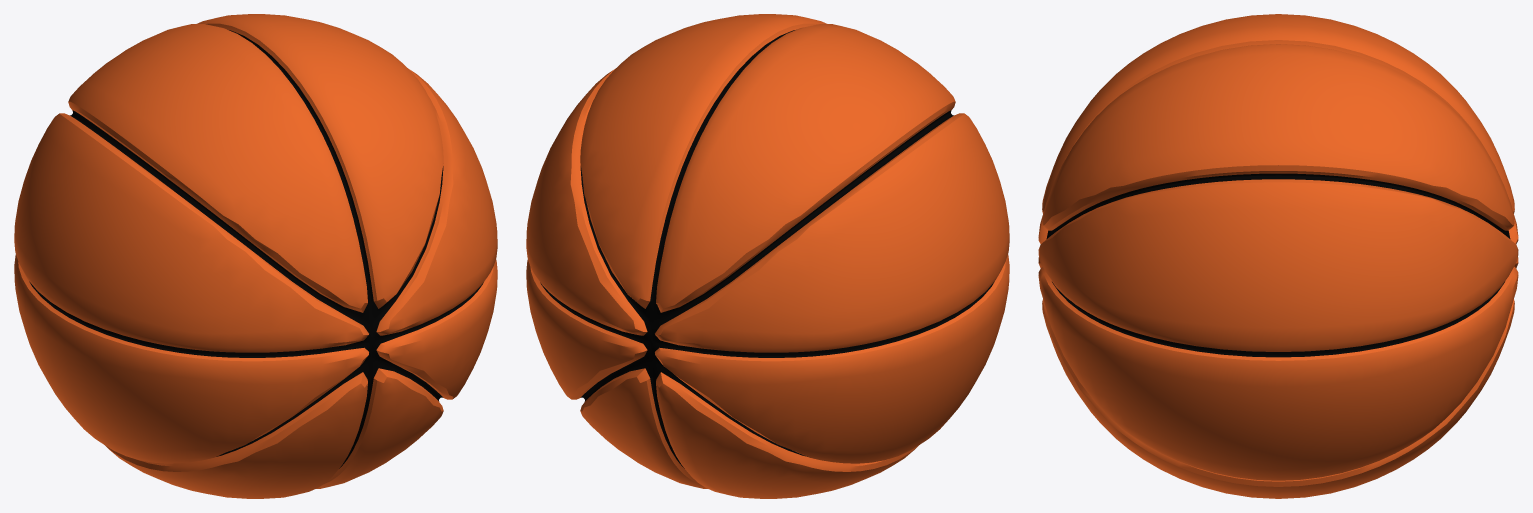
File: basketball.fbx
The picture shows the model from 3 angles, left to right: view 1: azimuth 30°, elevation 25°; view 2: azimuth 150°, elevation 25°; view 3: azimuth 270°, elevation 25°; orthographic projection.
Parts seen in each view (by area): view 1: Cube.002; view 2: Cube.002; view 3: Cube.002.
Part boxes in pixels (box(x1,y1,x2,y2)): Cube.002: box(14, 14, 497, 498); Cube.002: box(526, 14, 1009, 498); Cube.002: box(1038, 14, 1518, 498).
Size of the model in its own units: 97.18 by 97.18 by 97.2.
